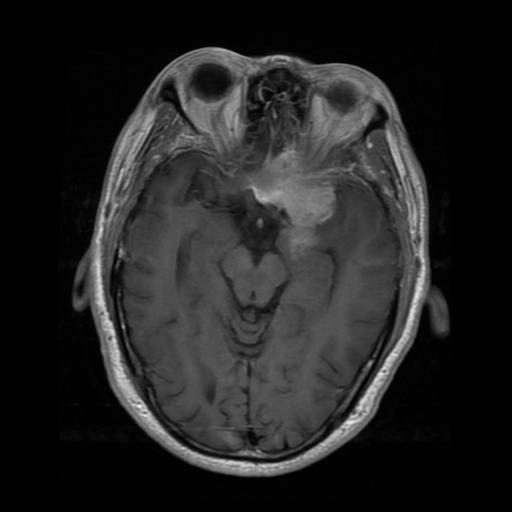Tumour-Meningioma: (239, 143, 371, 265)
